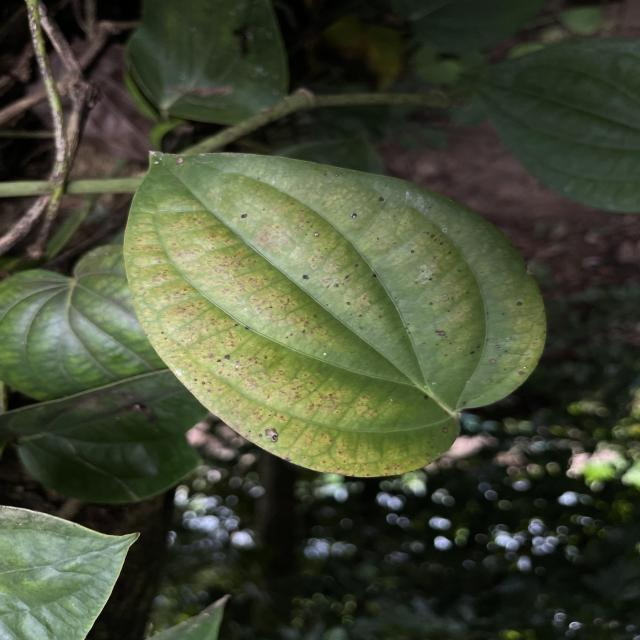Piper nigrum: (122, 148, 550, 480)
